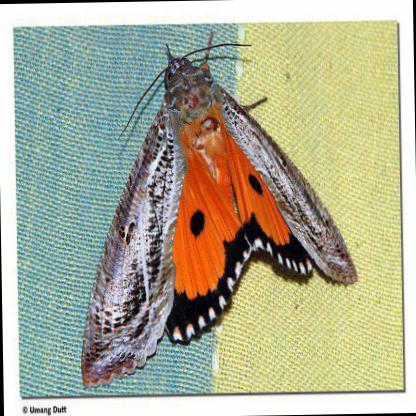fruit sucking moth: (79, 54, 359, 389)
